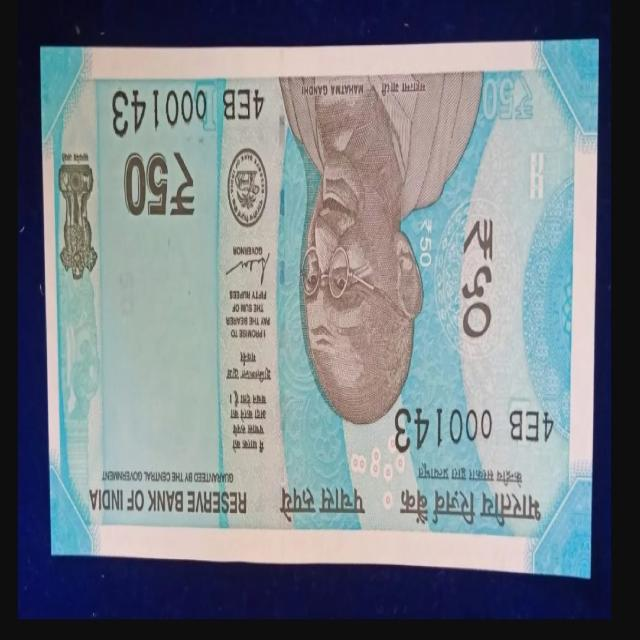50IndianRupees: (41, 48, 595, 570), (219, 45, 592, 578), (40, 45, 389, 554)
